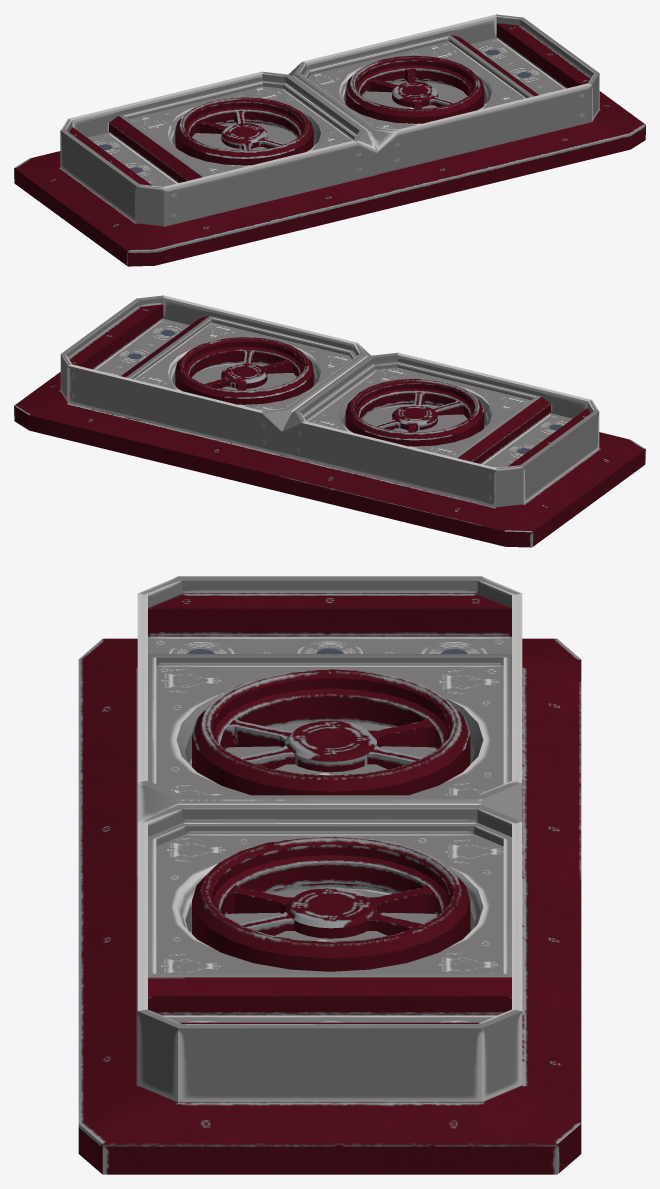
Rendered from SM_venthL.fbx.
The picture shows the model from 3 angles, top to bottom: view 1: azimuth 30°, elevation 25°; view 2: azimuth 150°, elevation 25°; view 3: azimuth 270°, elevation 25°; orthographic projection. The views are drawn at different scales.
Visible parts, largest first — view 1: SM_venthL_LOD0; view 2: SM_venthL_LOD0; view 3: SM_venthL_LOD0.
Part boxes in pixels (x1=…): SM_venthL_LOD0: x1=14, y1=14, x2=645, y2=266; SM_venthL_LOD0: x1=14, y1=295, x2=645, y2=547; SM_venthL_LOD0: x1=78, y1=576, x2=581, y2=1174.
Size of the model in its own units: 237 by 26.18 by 99.48.
1 material, 1 textured.
